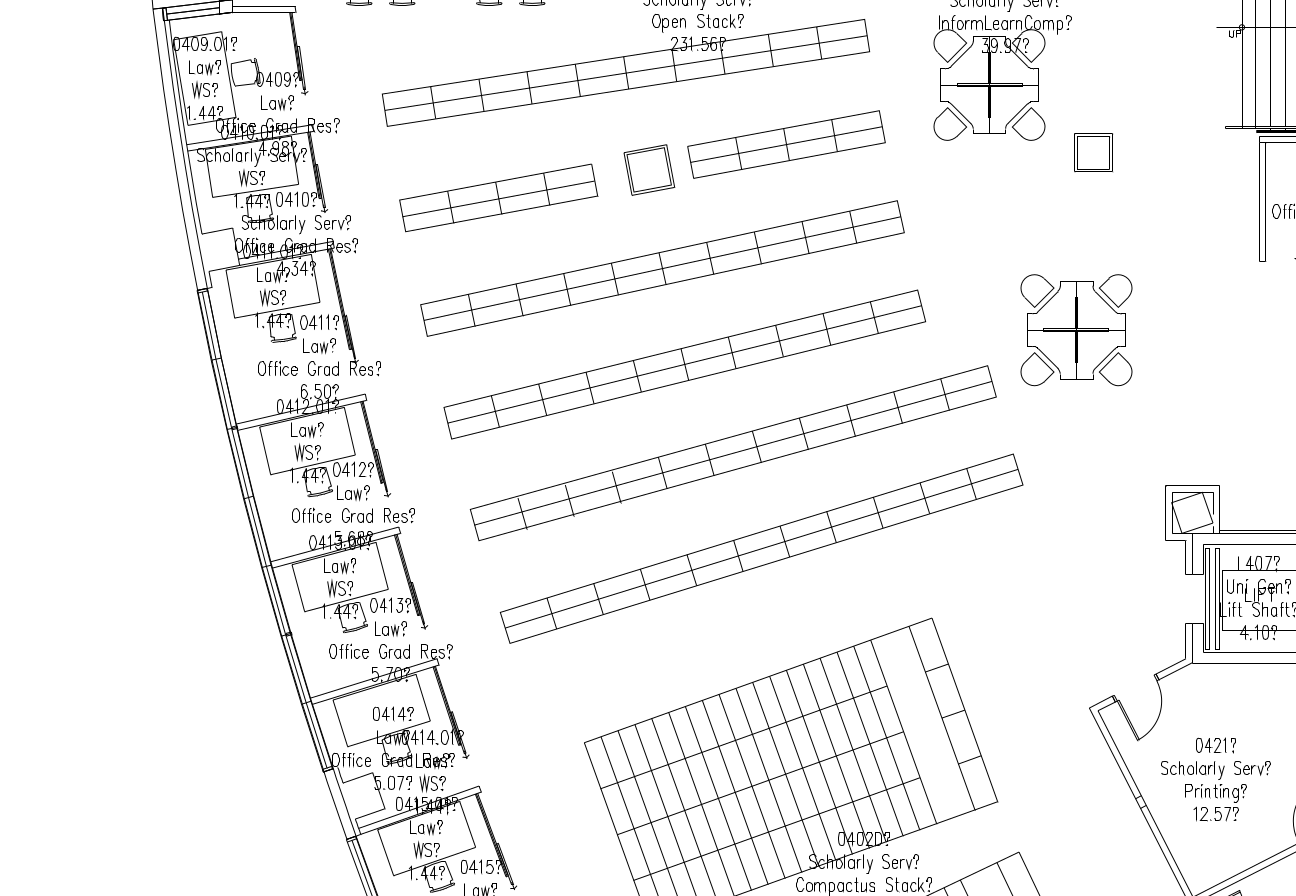door: (1117, 671, 1168, 751)
